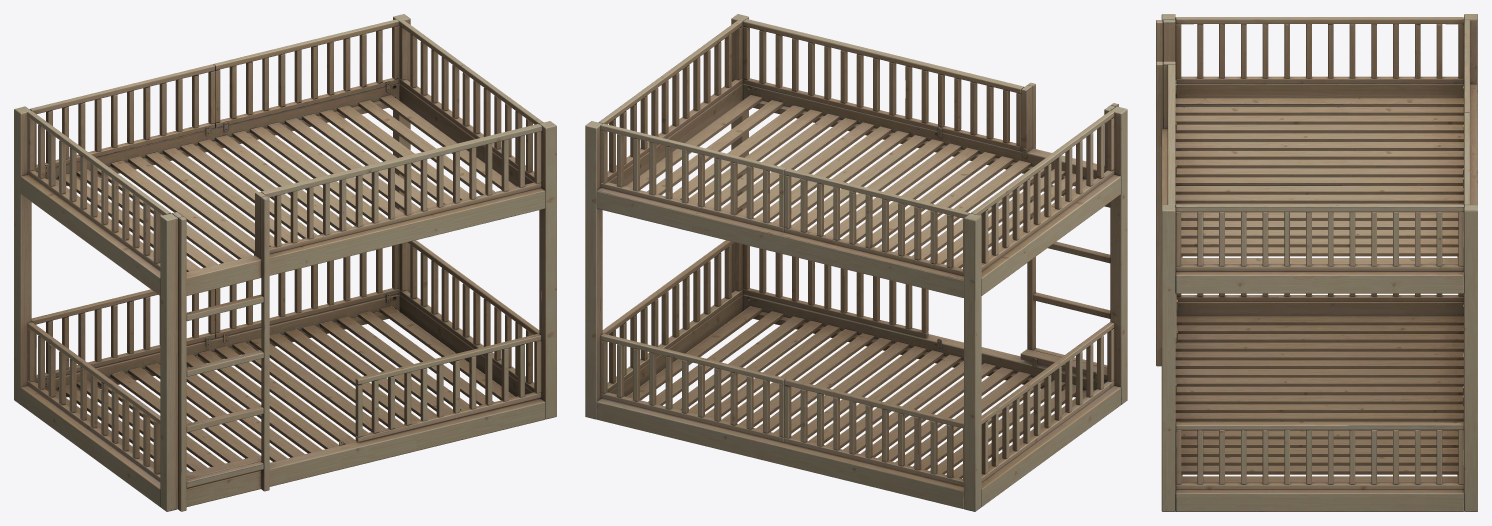
3 renders of one model, left to right at view 1: azimuth 30°, elevation 25°; view 2: azimuth 150°, elevation 25°; view 3: azimuth 270°, elevation 25°, orthographic. The views are drawn at different scales.
Parts seen in each view (by area): view 1: 180x120; view 2: 180x120; view 3: 180x120.
Boxes of the visible parts, left/top/right/bottom form: 180x120: left=14, top=14, right=556, bottom=511; 180x120: left=585, top=14, right=1127, bottom=511; 180x120: left=1156, top=14, right=1477, bottom=511.
Size of the model in its own units: 2.02 by 1.45 by 1.4.
Materials: 1 (1 with a texture image).
